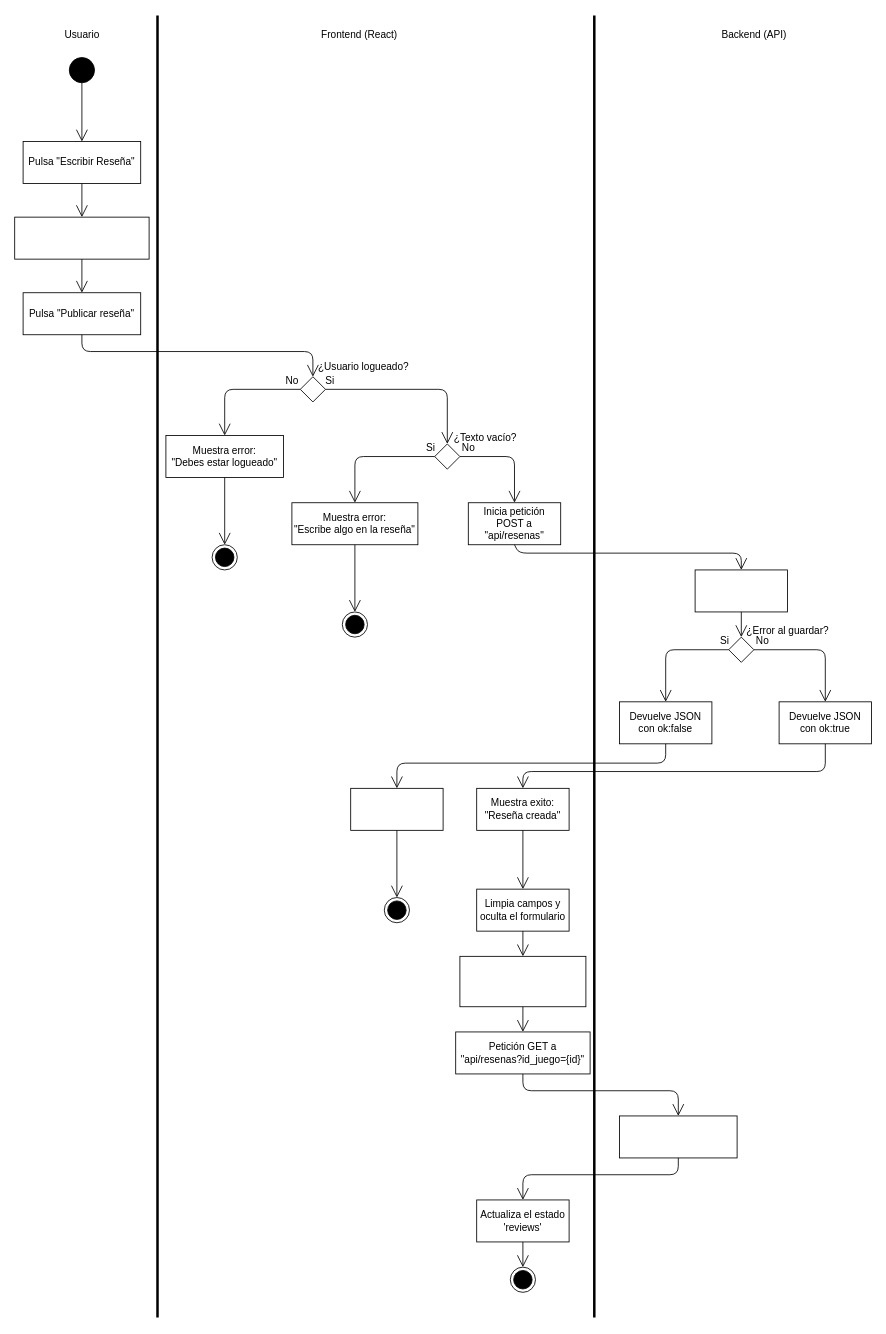
The diagram is 886 pixels wide and 1334 high, and some of its shapes have lost their labels. Each missing label, with the centre of its shape:
Consulta y devuelve las reseñas actualizadas: pixel 678 1136
Espera 500 ms para asegurar la actualizacion de la BBDD: pixel 522 981
Muestra mensaje de error al usuario: pixel 396 809
Procesa y guarda la reseña en la BBDD: pixel 741 590
Rellena puntuacion y texto: pixel 81 237
